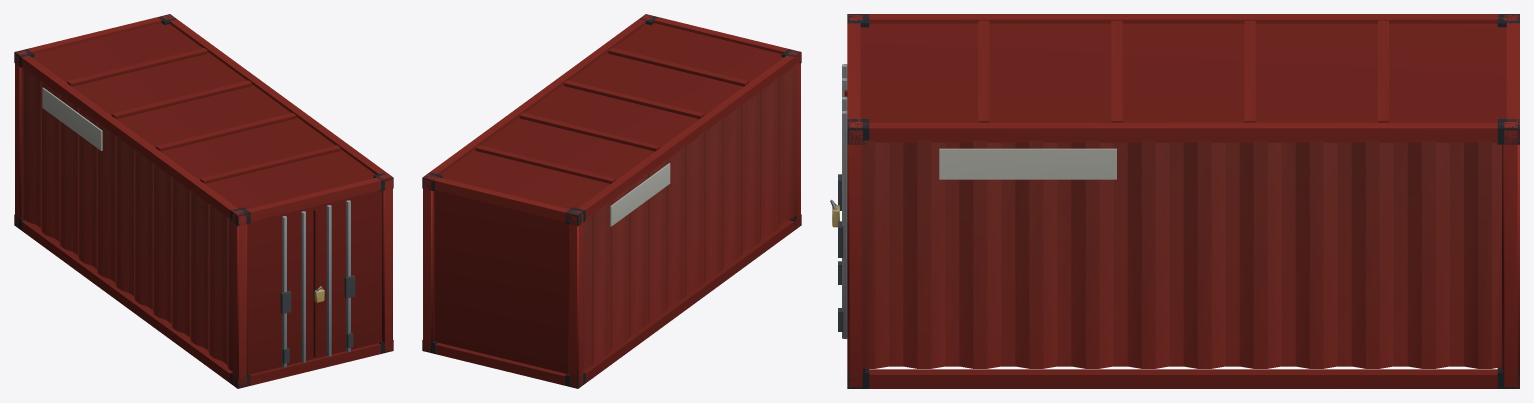
Rendered from contenedor_20ft_rojo.glb.
The picture shows the model from 3 angles, left to right: view 1: azimuth 30°, elevation 25°; view 2: azimuth 150°, elevation 25°; view 3: azimuth 270°, elevation 25°; orthographic projection. The views are drawn at different scales.
Visible parts, largest first — view 1: contenedor_20ft_rojo; view 2: contenedor_20ft_rojo; view 3: contenedor_20ft_rojo.
Part boxes in pixels (box(x1,y1,x2,y2)): contenedor_20ft_rojo: box(14, 14, 393, 388); contenedor_20ft_rojo: box(422, 14, 801, 388); contenedor_20ft_rojo: box(830, 14, 1519, 388).
Bounding box in the file's own units: 2.52 × 2.6 × 6.22.
